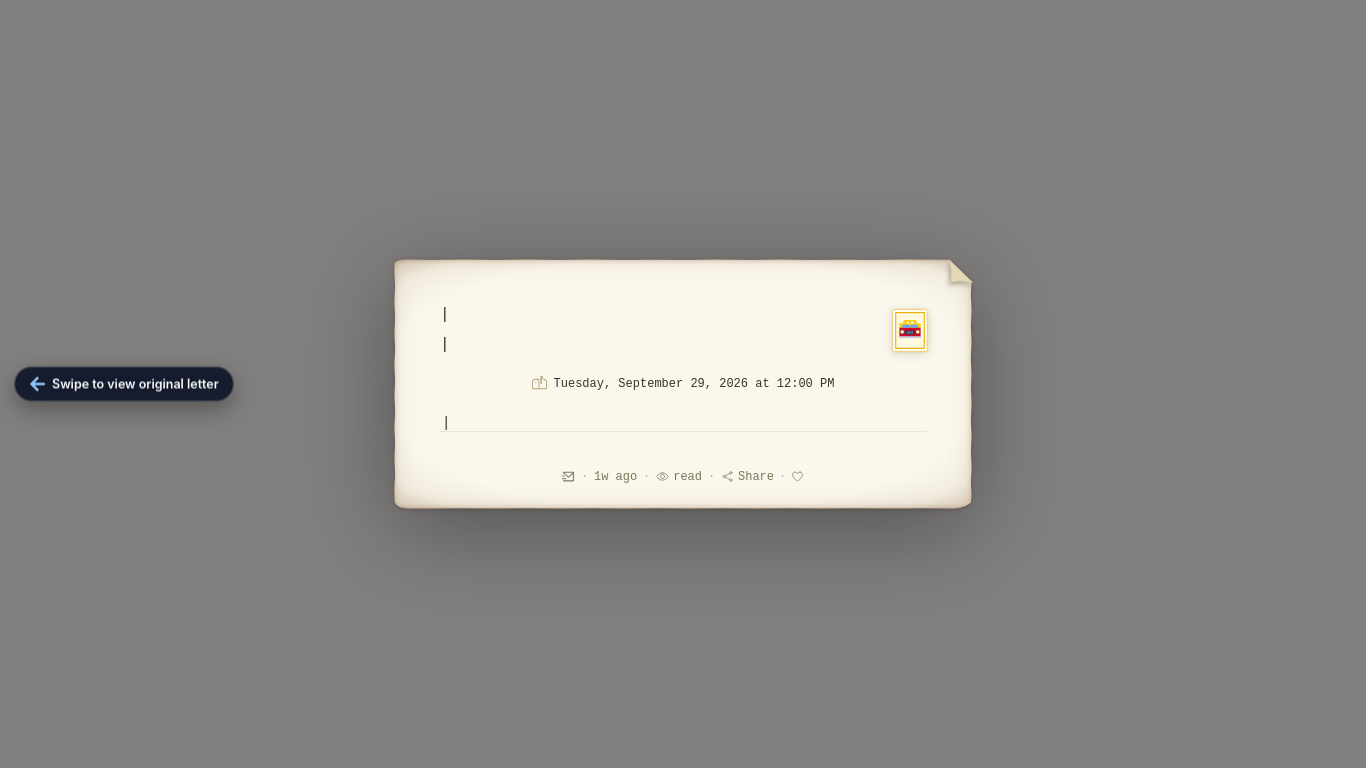
Test: Reply Preview and Swipe Navigation Flow › a feed reply shows its parent's own From and To fields in normal mode
The image size is (1366, 768).
Step 1. Click the message named "View the letter this replies to" → coordinates (124, 384), box 14,366 -> 234,402
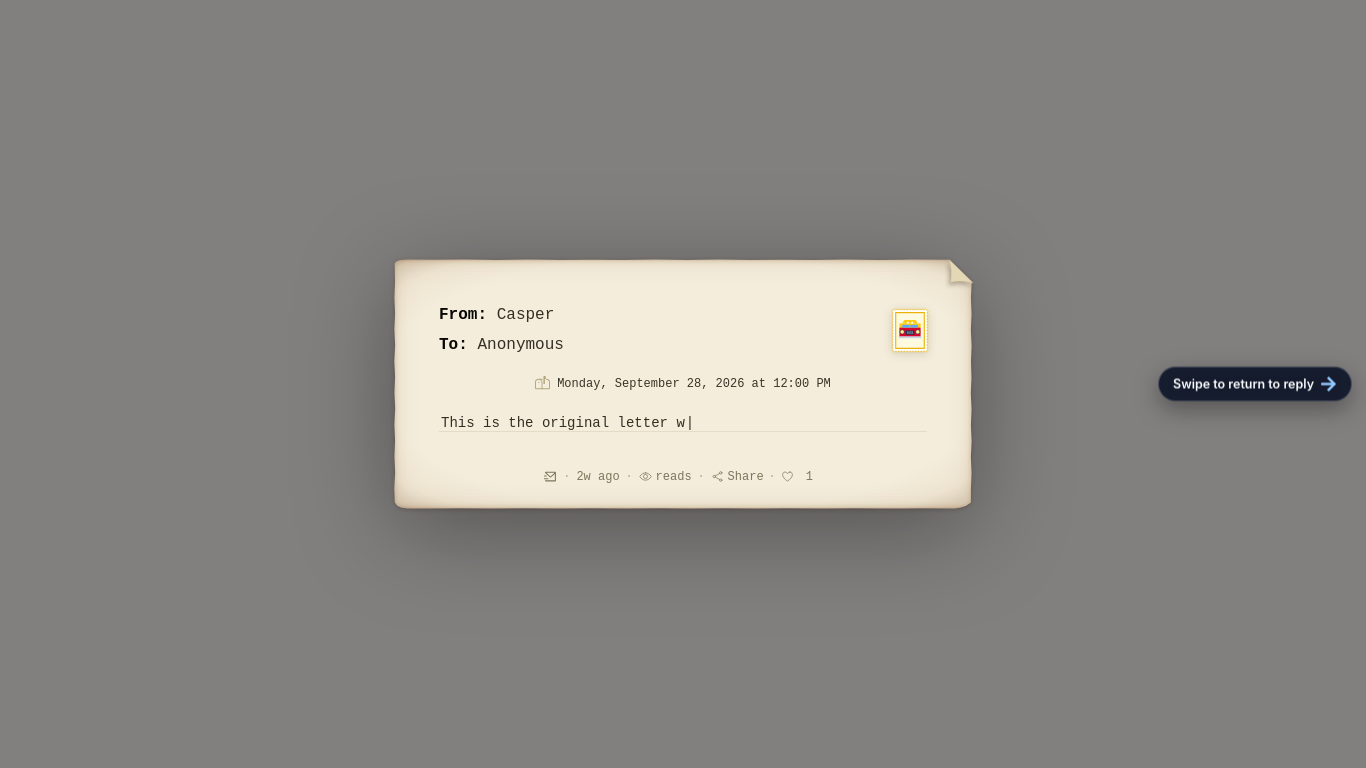
Expected: the element with class "letter-paper" does not show "From: Reply Writer", 393,259 -> 973,509
Result: the element with class "letter-paper" shows "From: Casper" at 393,259 -> 973,509
Result: the element with class "letter-paper" shows "To: Anonymous" at 393,259 -> 973,509
